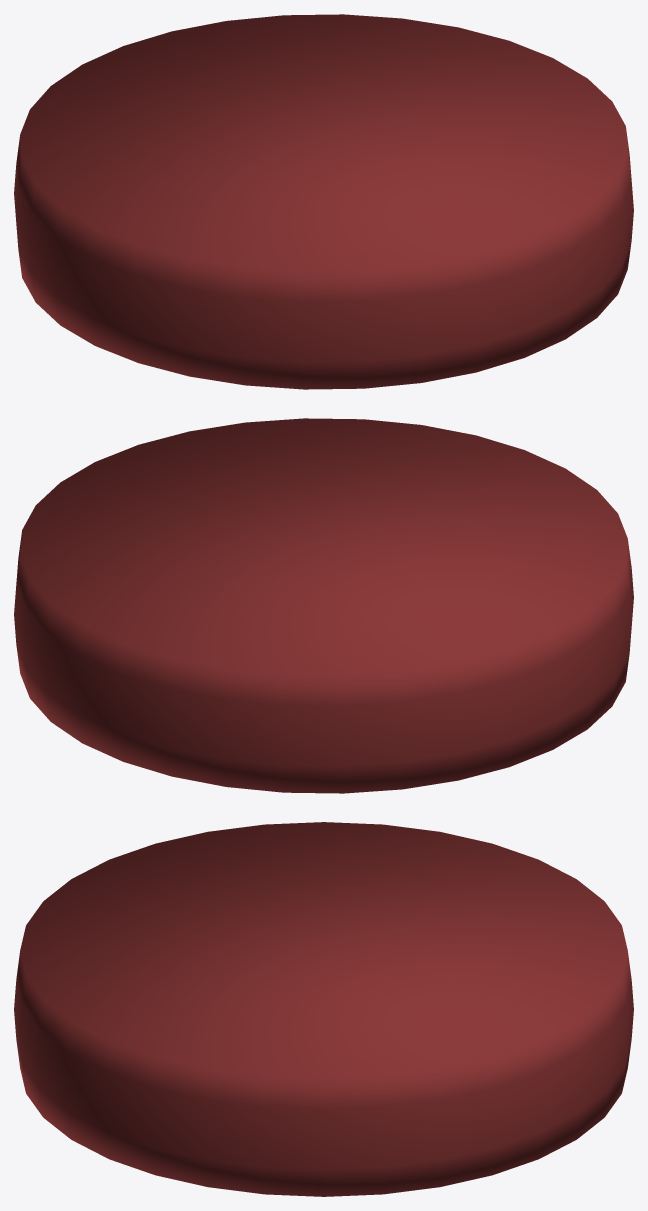
The model's file is Meat.fbx.
The picture shows the model from 3 angles, top to bottom: view 1: azimuth 30°, elevation 25°; view 2: azimuth 150°, elevation 25°; view 3: azimuth 270°, elevation 25°; orthographic projection.
Visible parts, largest first — view 1: Meat; view 2: Meat; view 3: Meat.
Part boxes in pixels (left/top/right/bottom): Meat: left=14, top=14, right=633, bottom=389; Meat: left=14, top=418, right=633, bottom=793; Meat: left=14, top=822, right=633, bottom=1196.
Bounding box in the file's own units: 61.61 × 12.95 × 61.61.
